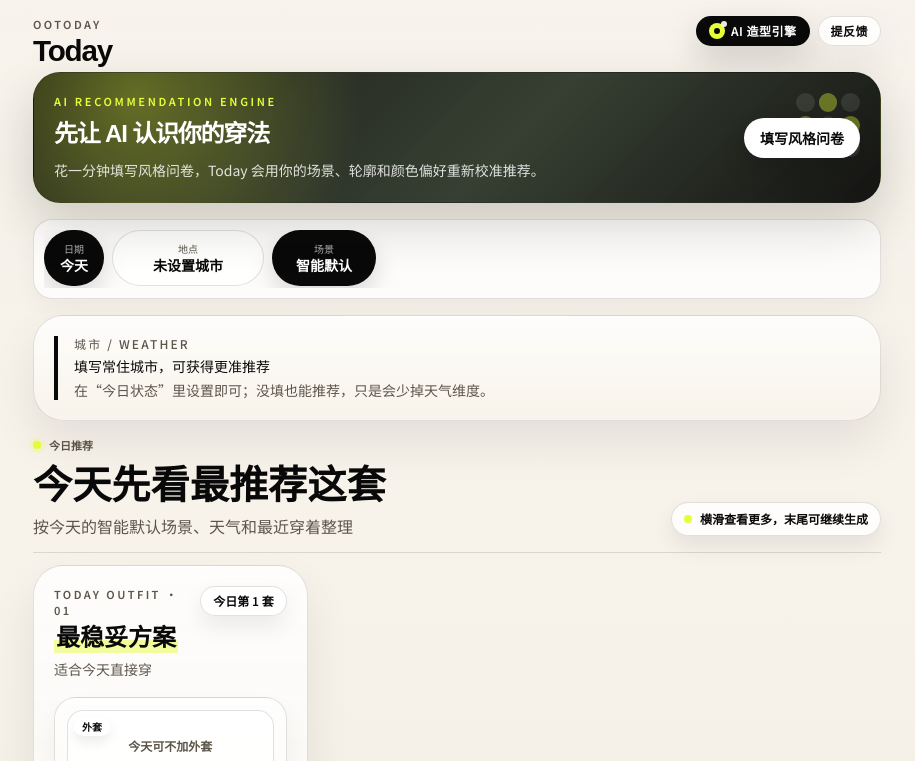
it: TodayPage › refreshes recommendations when the Today scene changes
Step 1. Click the button with aria-label "场景：智能默认" → {"x": 324, "y": 258}, box [272,230,376,286]
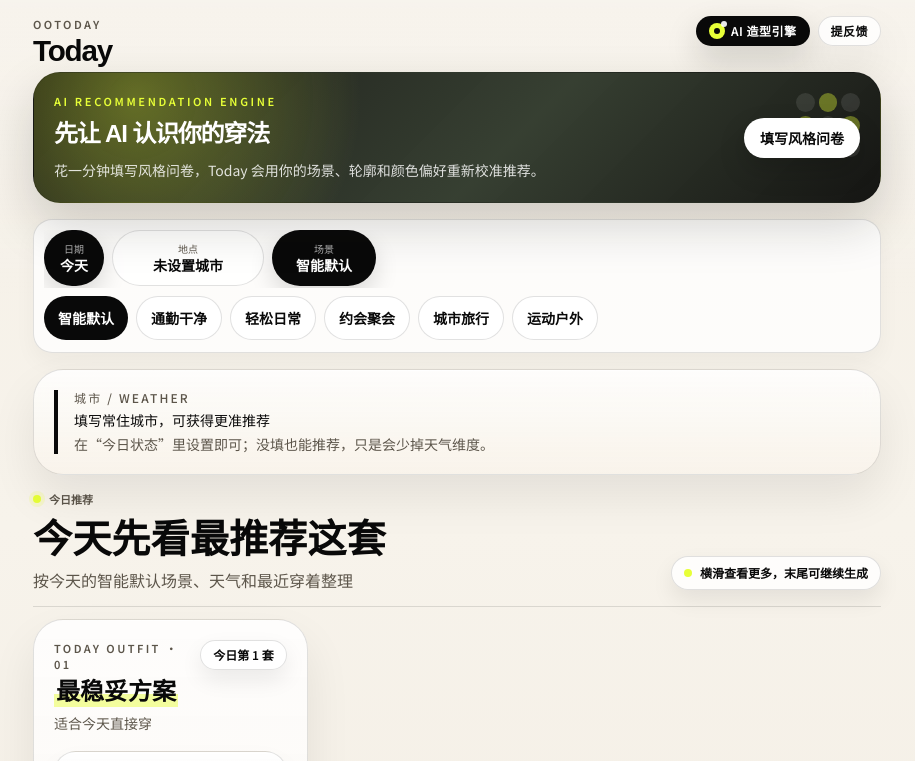
Step 2. Click the button "运动户外" → {"x": 555, "y": 318}, box [512,296,598,340]
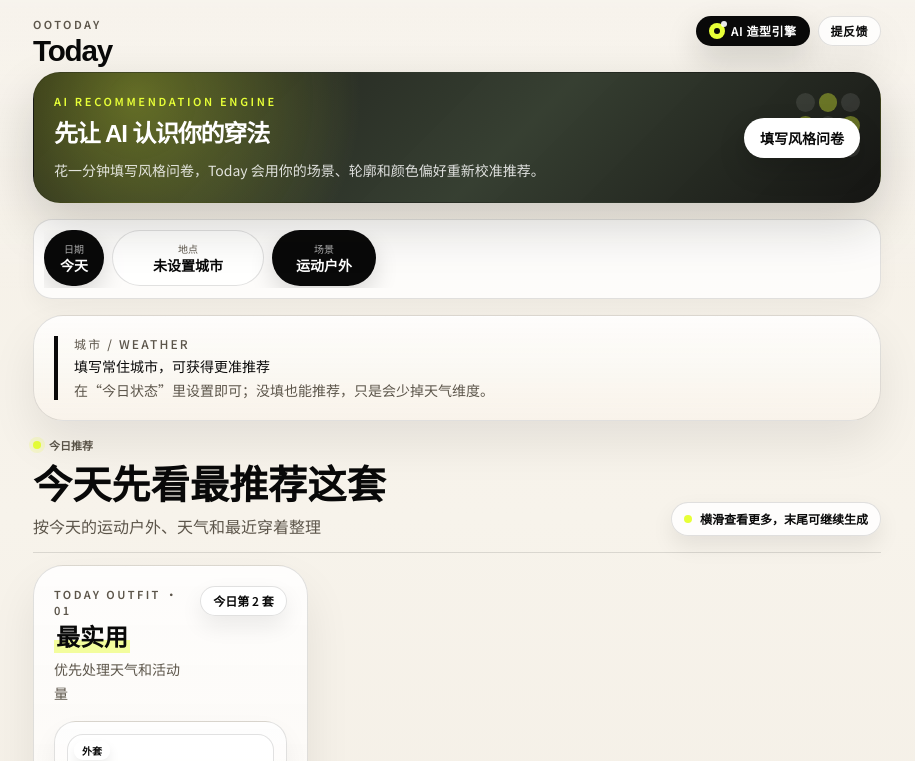
Expected: the text "按今天的运动户外、天气和最近穿着整理" is shown, [33,514,321,538]
